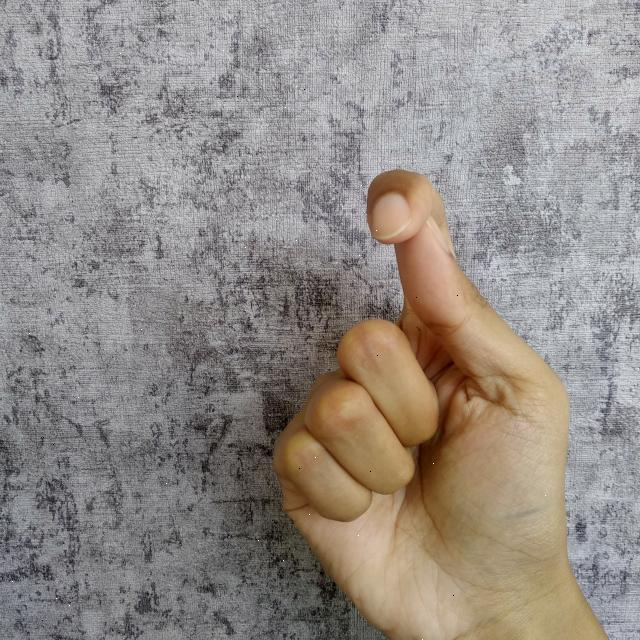T: (270, 162, 607, 640)
